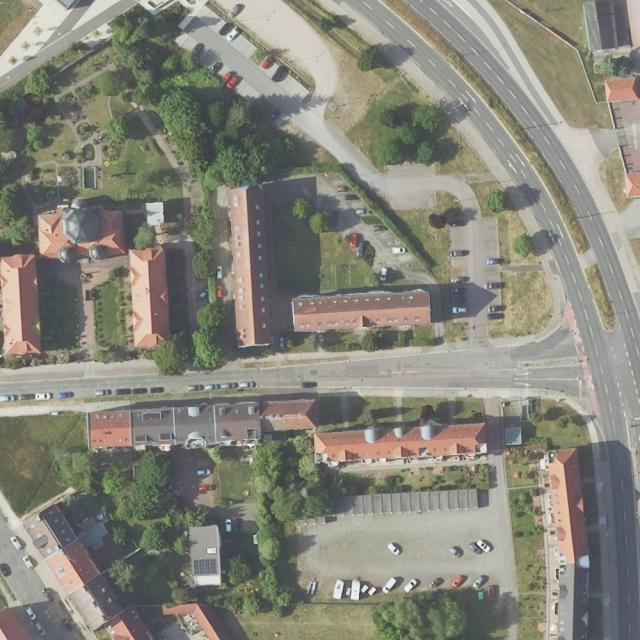PV: (193, 559, 216, 574)
